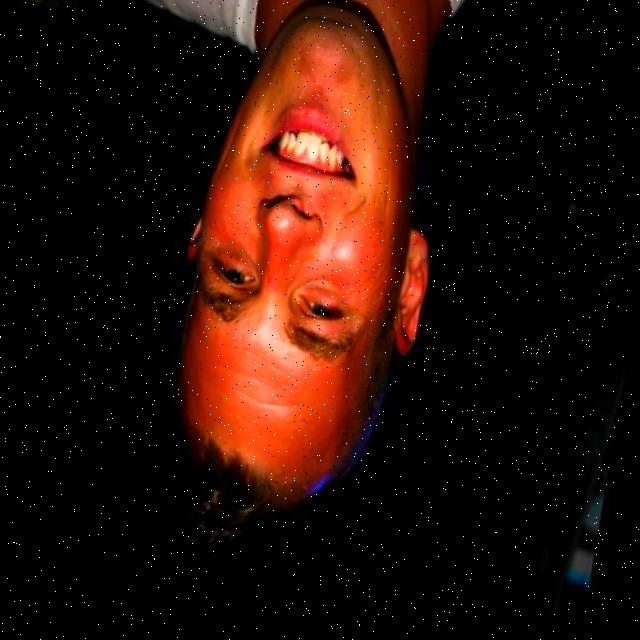puffy_eyes: (301, 276, 346, 310), (220, 245, 261, 278)
